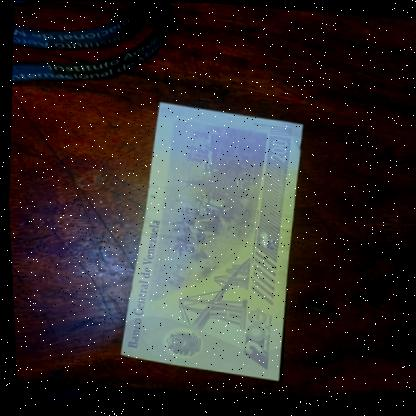two_hundred-back-vef: (106, 98, 312, 383)
